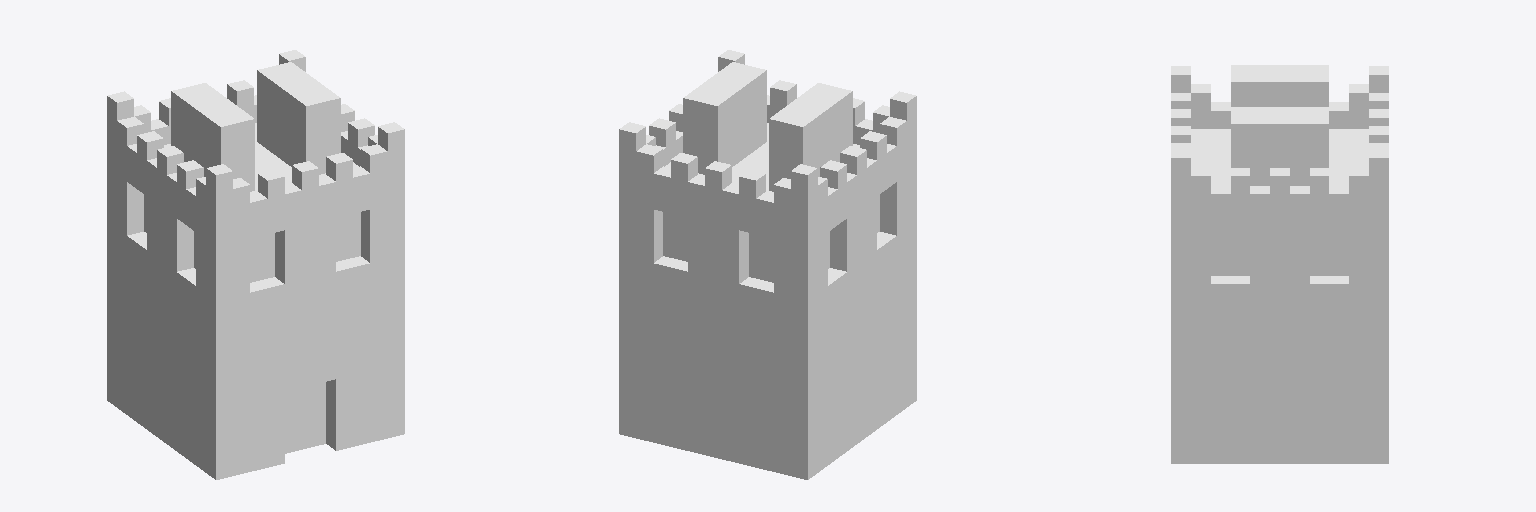
Rendered from Tower2.obj.
3 views of the same model, side by side, from view 1: azimuth 30°, elevation 25°; view 2: azimuth 150°, elevation 25°; view 3: azimuth 270°, elevation 25° (orthographic).
Visible parts, largest first — view 1: object 1; view 2: object 1; view 3: object 1.
Part boxes in pixels (bbox=[...]): object 1: bbox=[107, 50, 404, 479]; object 1: bbox=[619, 50, 916, 479]; object 1: bbox=[1171, 65, 1388, 463].
Bounding box in the file's own units: 1.1 × 1.8 × 1.1.